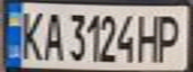1: (84, 10, 103, 62)
2: (100, 10, 118, 63)
3: (63, 9, 87, 62)
4: (115, 10, 139, 63)
A: (39, 7, 66, 62)
H: (136, 10, 163, 63)
K: (15, 7, 45, 61)
P: (154, 10, 187, 63)
